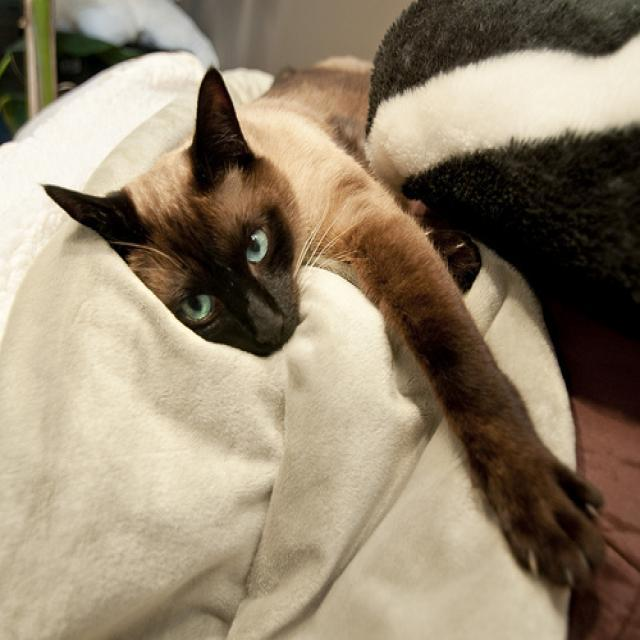Siamese: (39, 54, 308, 361)
